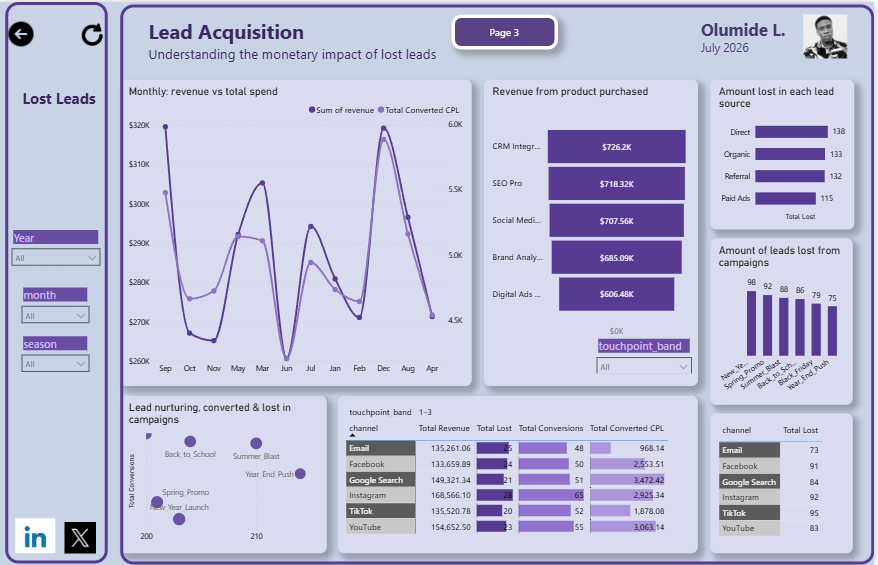

The page's visual inventory and layout, read from the dashboard file:
{"tool":"powerbi","page":{"name":"Page 3","canvas":[1400,900],"ordinal":2},"visuals":[{"type":"barChart","title":"Amount lost in each lead source","fields":{"Category":["my_output_file.lead_source"],"Y":["my_output_file.Total Lost"]},"box":[1138,124,230,240],"z":0},{"type":"columnChart","title":"Amount of leads lost from campaigns","fields":{"Category":["my_output_file.campaign_name"],"Y":["my_output_file.Total Lost"]},"box":[1138,378,228,266],"z":1000},{"type":"funnel","title":"Revenue from product purchased","fields":{"Category":["my_output_file.product_purchased"],"Y":["Sum(my_output_file.revenue)"]},"box":[776,124,342,490],"z":3000},{"type":"pivotTable","fields":{"Values":["my_output_file.Total Revenue","my_output_file.Total Lost","my_output_file.Total Conversions","my_output_file.Total Converted CPL"],"Rows":["my_output_file.channel"],"Columns":["my_output_file.touchpoint_band"]},"box":[542,630,576,252],"z":4000},{"type":"scatterChart","title":"Lead nurturing, converted & lost in campaigns","fields":{"Size":["my_output_file.Total Lost"],"Y":["my_output_file.Total Conversions"],"X":["my_output_file.Total Nurturing"],"Category":["my_output_file.campaign_name"]},"box":[194,630,330,252],"z":5000},{"type":"slicer","fields":{"Values":["my_output_file.touchpoint_band"]},"box":[946,534,172,60],"z":6000},{"type":"lineChart","title":"Monthly: revenue vs total spend","fields":{"Category":["my_output_file.month_short"],"Y":["Sum(my_output_file.revenue)"],"Y2":["my_output_file.Total Converted CPL"]},"box":[194,124,562,490],"z":7000},{"type":"shape","box":[10,0,164,898],"z":8000},{"type":"slicer","fields":{"Values":["my_output_file.year"]},"box":[10,360,162,100],"z":9000},{"type":"slicer","fields":{"Values":["my_output_file.month"]},"box":[26,452,128,78],"z":10000},{"type":"slicer","fields":{"Values":["my_output_file.season"]},"box":[26,530,128,64],"z":11000},{"type":"textbox","box":[234,20,910,84],"z":12000},{"type":"textbox","box":[20,132,152,74],"z":13000},{"type":"pageNavigator","box":[724,20,170,56],"z":14000},{"type":"image","box":[104,832,52,50],"z":15000},{"type":"image","box":[26,826,64,56],"z":16000},{"type":"image","box":[124,20,50,66],"z":17000},{"type":"image","box":[1286,20,72,70],"z":18000},{"type":"textbox","box":[1118,20,166,70],"z":19000},{"type":"image","box":[10,20,50,62],"z":20000},{"type":"shape","box":[194,4,1206,896],"z":21000},{"type":"tableEx","fields":{"Values":["my_output_file.channel","my_output_file.Total Lost"]},"box":[1138,658,228,224],"z":21001}]}

Visuals, with their boxes in screenshot pixels (x1, y1, x2, y2), scaled from the page's 1400x900 canvas onto the 878x565 screenshot:
"Amount lost in each lead source" barChart: (714, 78, 858, 229)
"Amount of leads lost from campaigns" columnChart: (714, 237, 857, 404)
"Revenue from product purchased" funnel: (487, 78, 701, 385)
pivotTable - my_output_file.Total Revenue x my_output_file.Total Lost: (340, 396, 701, 554)
"Lead nurturing, converted & lost in campaigns" scatterChart: (122, 396, 329, 554)
slicer - my_output_file.touchpoint_band: (593, 335, 701, 373)
"Monthly: revenue vs total spend" lineChart: (122, 78, 474, 385)
shape: (6, 0, 109, 564)
slicer - my_output_file.year: (6, 226, 108, 289)
slicer - my_output_file.month: (16, 284, 97, 333)
slicer - my_output_file.season: (16, 333, 97, 373)
textbox: (147, 13, 717, 65)
textbox: (13, 83, 108, 129)
pageNavigator: (454, 13, 561, 48)
image: (65, 522, 98, 554)
image: (16, 519, 56, 554)
image: (78, 13, 109, 54)
image: (807, 13, 852, 56)
textbox: (701, 13, 805, 56)
image: (6, 13, 38, 51)
shape: (122, 3, 877, 564)
tableEx - my_output_file.channel x my_output_file.Total Lost: (714, 413, 857, 554)
